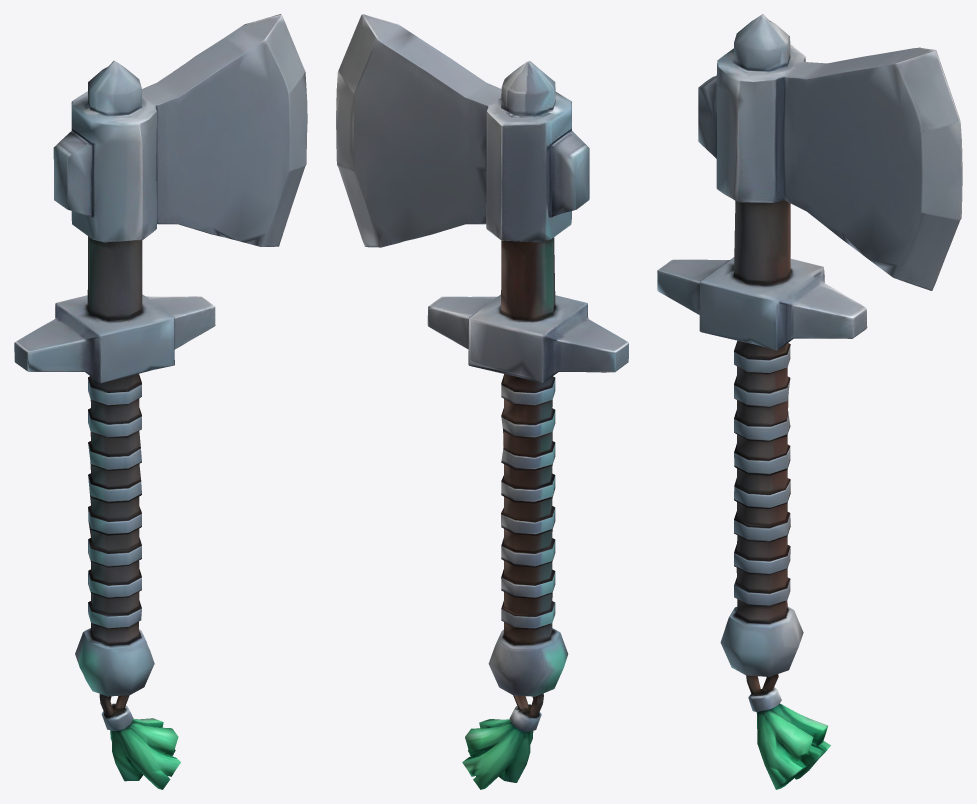
The model's file is w_guard--axe.glb.
The picture shows the model from 3 angles, left to right: view 1: azimuth 30°, elevation 25°; view 2: azimuth 150°, elevation 25°; view 3: azimuth 330°, elevation 25°; orthographic projection. The views are drawn at different scales.
Visible parts, largest first — view 1: Weapon; view 2: Weapon; view 3: Weapon.
Boxes of the visible parts, bbox=[...] form: Weapon: bbox=[14, 14, 307, 789]; Weapon: bbox=[336, 14, 628, 789]; Weapon: bbox=[657, 14, 962, 789].
Bounding box in the file's own units: 0.4005 × 0.9794 × 0.1233.
1 material, 1 textured.
